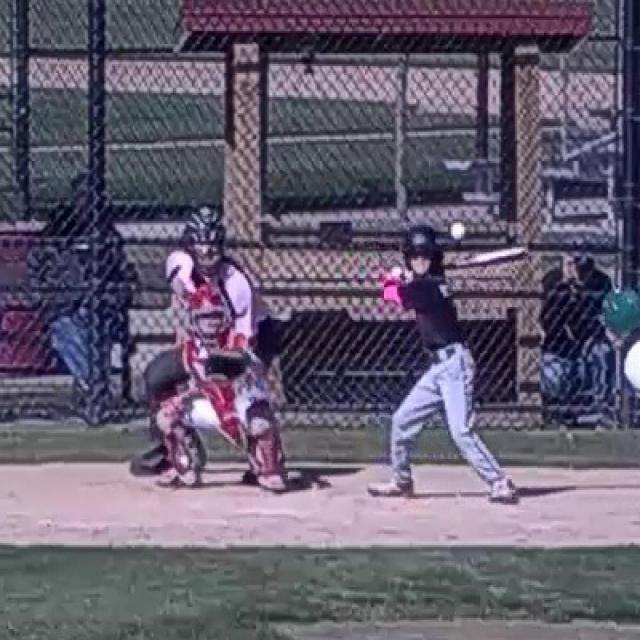baseball: (451, 223, 465, 239)
